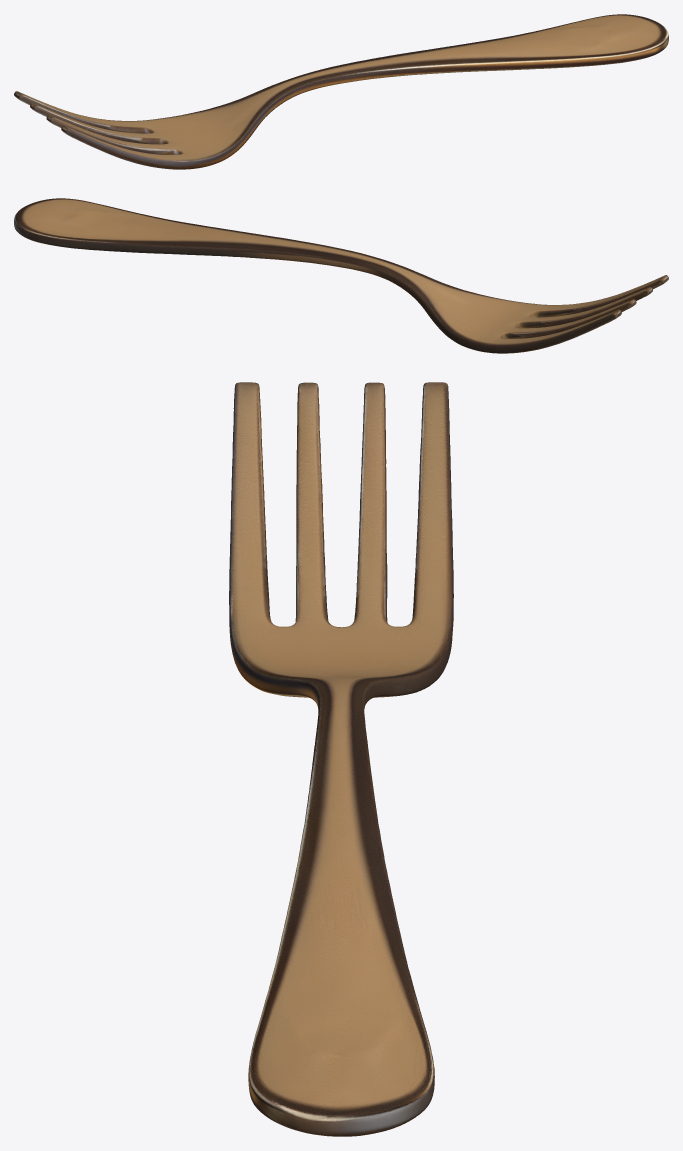
Rendered from fork.glb.
3 renders of one model, top to bottom at view 1: azimuth 30°, elevation 25°; view 2: azimuth 150°, elevation 25°; view 3: azimuth 270°, elevation 25°, orthographic. The views are drawn at different scales.
Bounding box in the file's own units: 1.9 × 0.2286 × 0.2968.
Materials: 1 (1 with a texture image).
